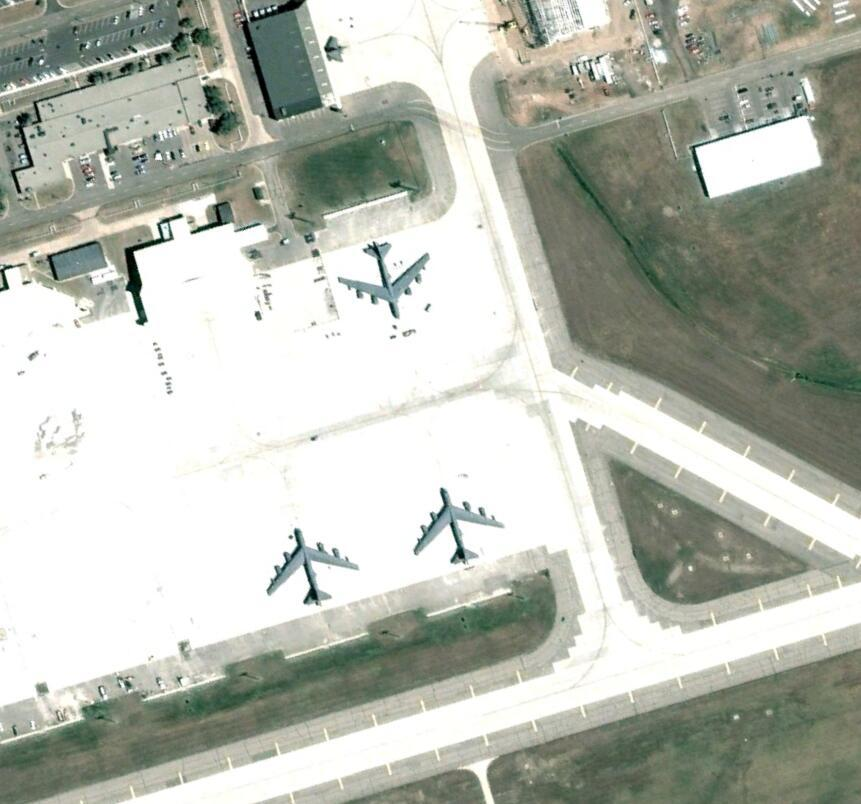A8: (408, 485, 506, 569), (260, 526, 361, 605), (336, 239, 431, 321)
